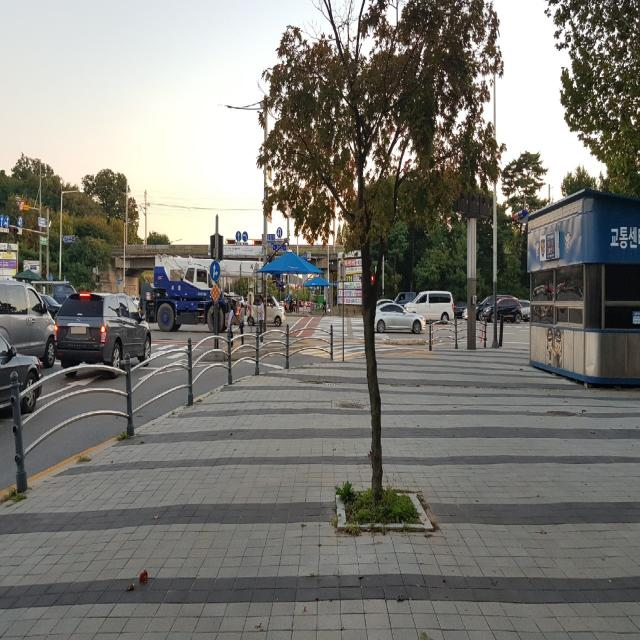횡단보도: (310, 316, 391, 341)
